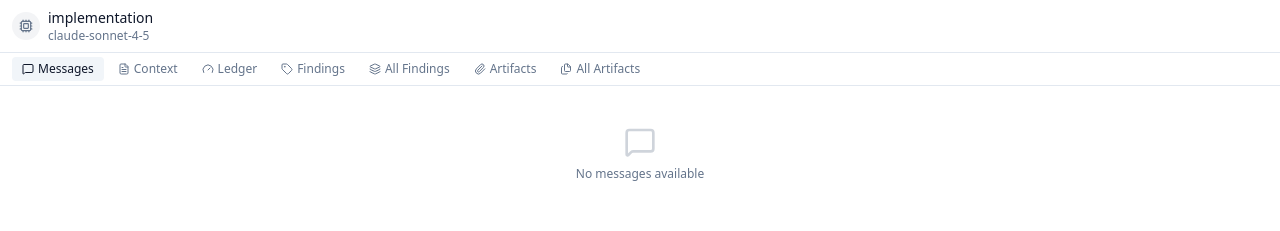
it: AgentLogDetail - All Findings tab › switching from All Findings back to Findings shows filtered agent view
This screenshot has width=1280, height=231.
Click the button "All Findings" at (409, 69), box left=359, top=57, right=460, bottom=81
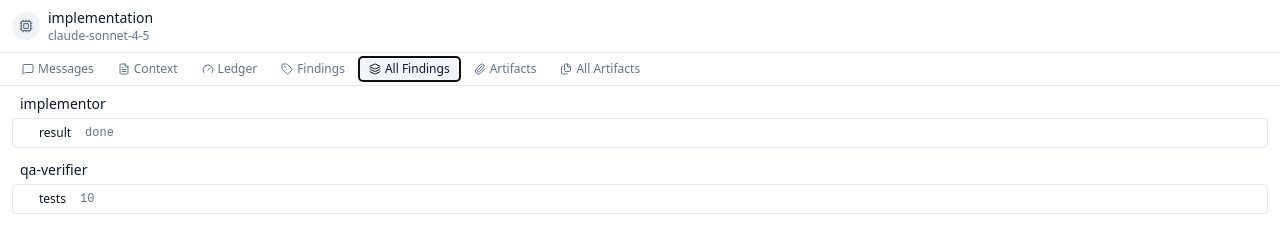
Check: the heading "qa-verifier" is shown, box left=20, top=160, right=88, bottom=179
Click the button "Findings" at (313, 69), box left=271, top=57, right=355, bottom=81
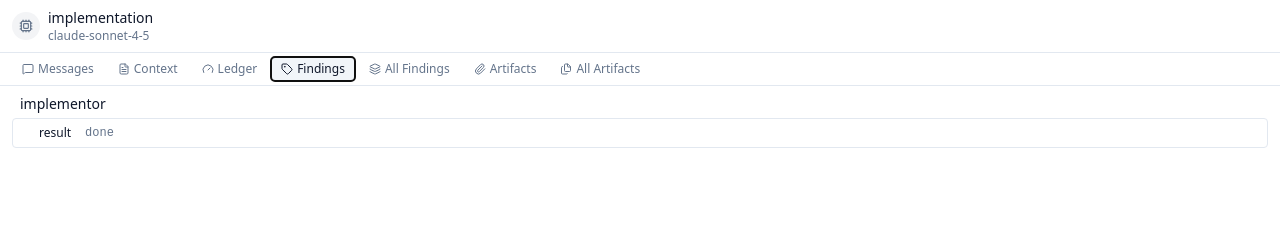
Check: the heading "implementor" is shown, box left=20, top=94, right=106, bottom=113
Check: the heading "qa-verifier" is gone
